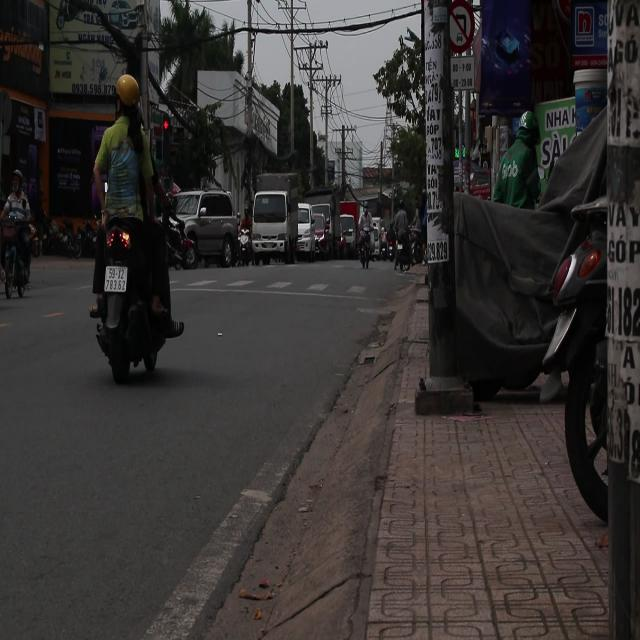car: (169, 189, 244, 272), (334, 213, 356, 258)
motorbike: (88, 214, 181, 384), (0, 194, 37, 298), (353, 224, 375, 279), (394, 228, 414, 274)
truck: (250, 174, 304, 265), (297, 202, 332, 260)
